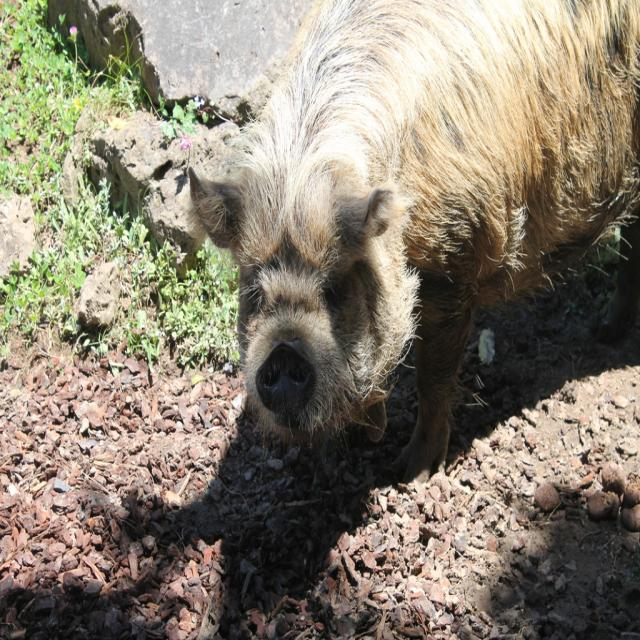Pig: (185, 0, 640, 485)
